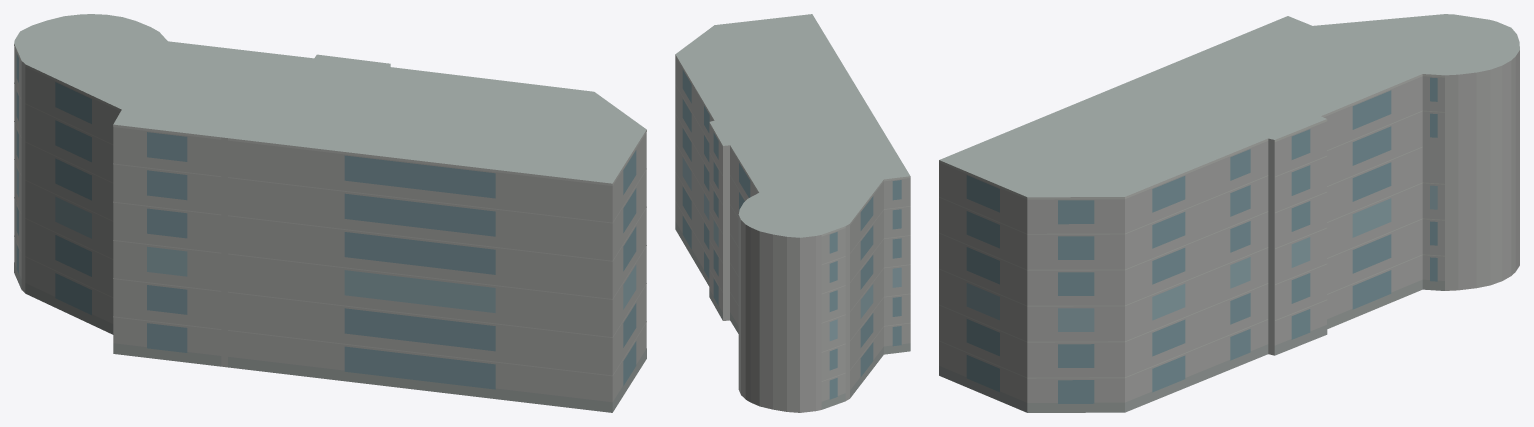
File: survey-upis-33033707.glb
3 views of the same model, side by side, from view 1: azimuth 30°, elevation 25°; view 2: azimuth 150°, elevation 25°; view 3: azimuth 270°, elevation 25° (orthographic). The views are drawn at different scales.
Visible parts, largest first — view 1: survey-upis-33033707.tmp; view 2: survey-upis-33033707.tmp; view 3: survey-upis-33033707.tmp.
Part boxes in pixels (x1,y1,x2,y2): survey-upis-33033707.tmp: (14,14,646,412); survey-upis-33033707.tmp: (675,14,910,412); survey-upis-33033707.tmp: (939,14,1519,412).
Size of the model in its own units: 41.76 by 22.9 by 55.9.
